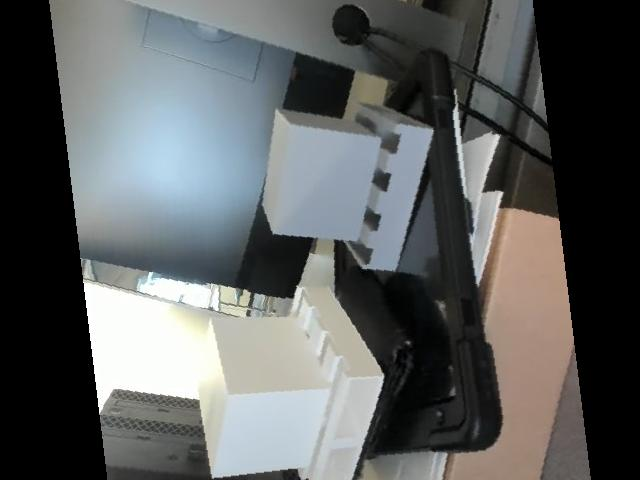grey pallet: (253, 85, 436, 273)
white pallet: (154, 278, 406, 480)
